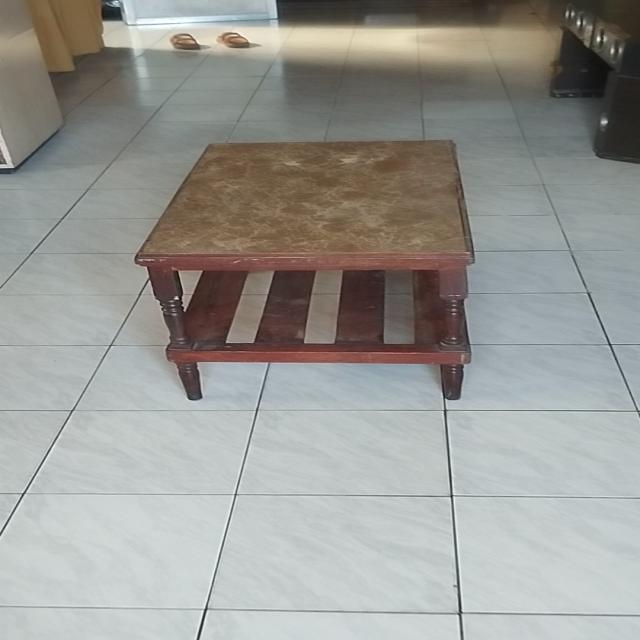table: (135, 136, 479, 403)
